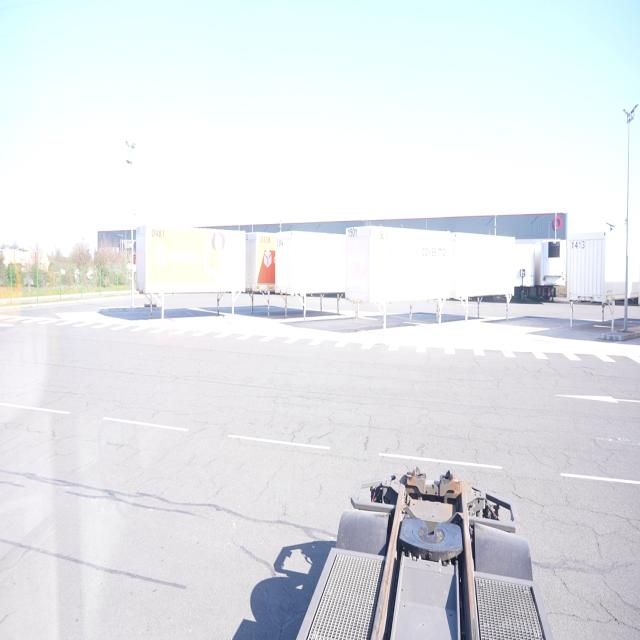Code: (147, 224, 168, 243), (344, 222, 362, 243), (568, 235, 588, 253)
